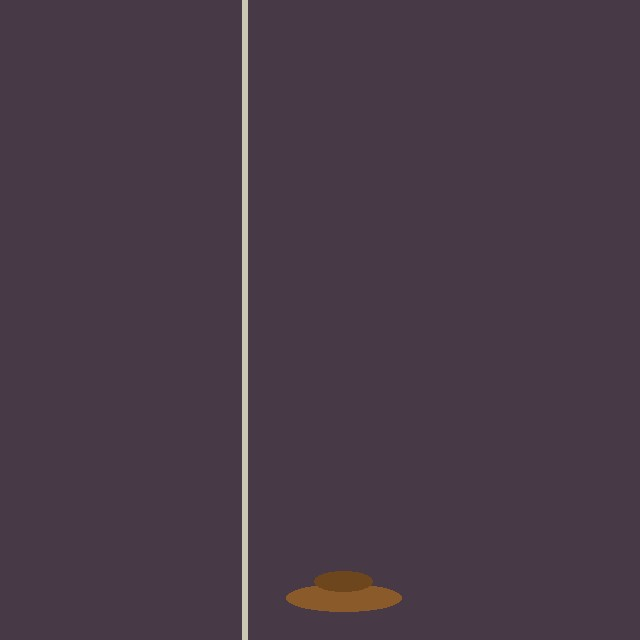animal: (286, 571, 401, 611)
